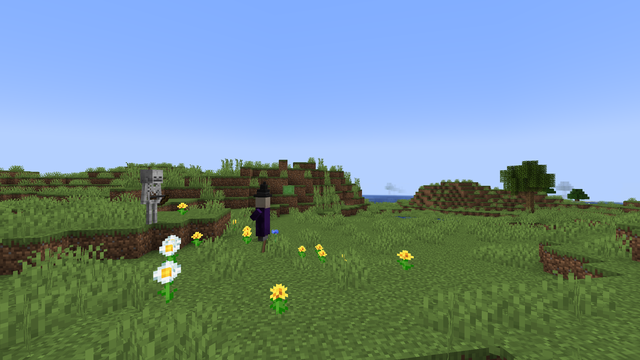slimes: (283, 184, 292, 193)
sorcieres: (255, 194, 269, 240)
squelettes: (138, 169, 163, 224)
